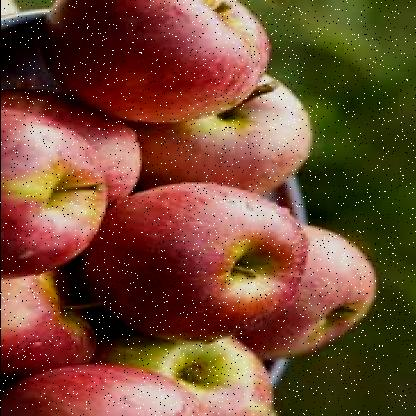apple: (95, 194, 323, 332), (51, 1, 270, 118), (127, 80, 314, 194), (238, 226, 380, 362), (2, 108, 109, 284), (107, 327, 280, 413), (2, 272, 116, 368), (25, 364, 211, 414)
